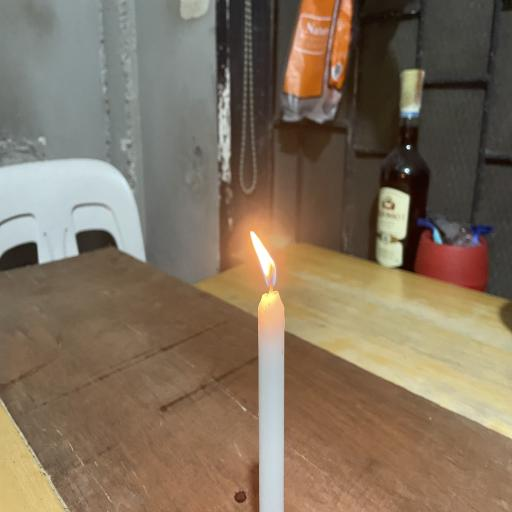fire: (234, 216, 295, 302)
